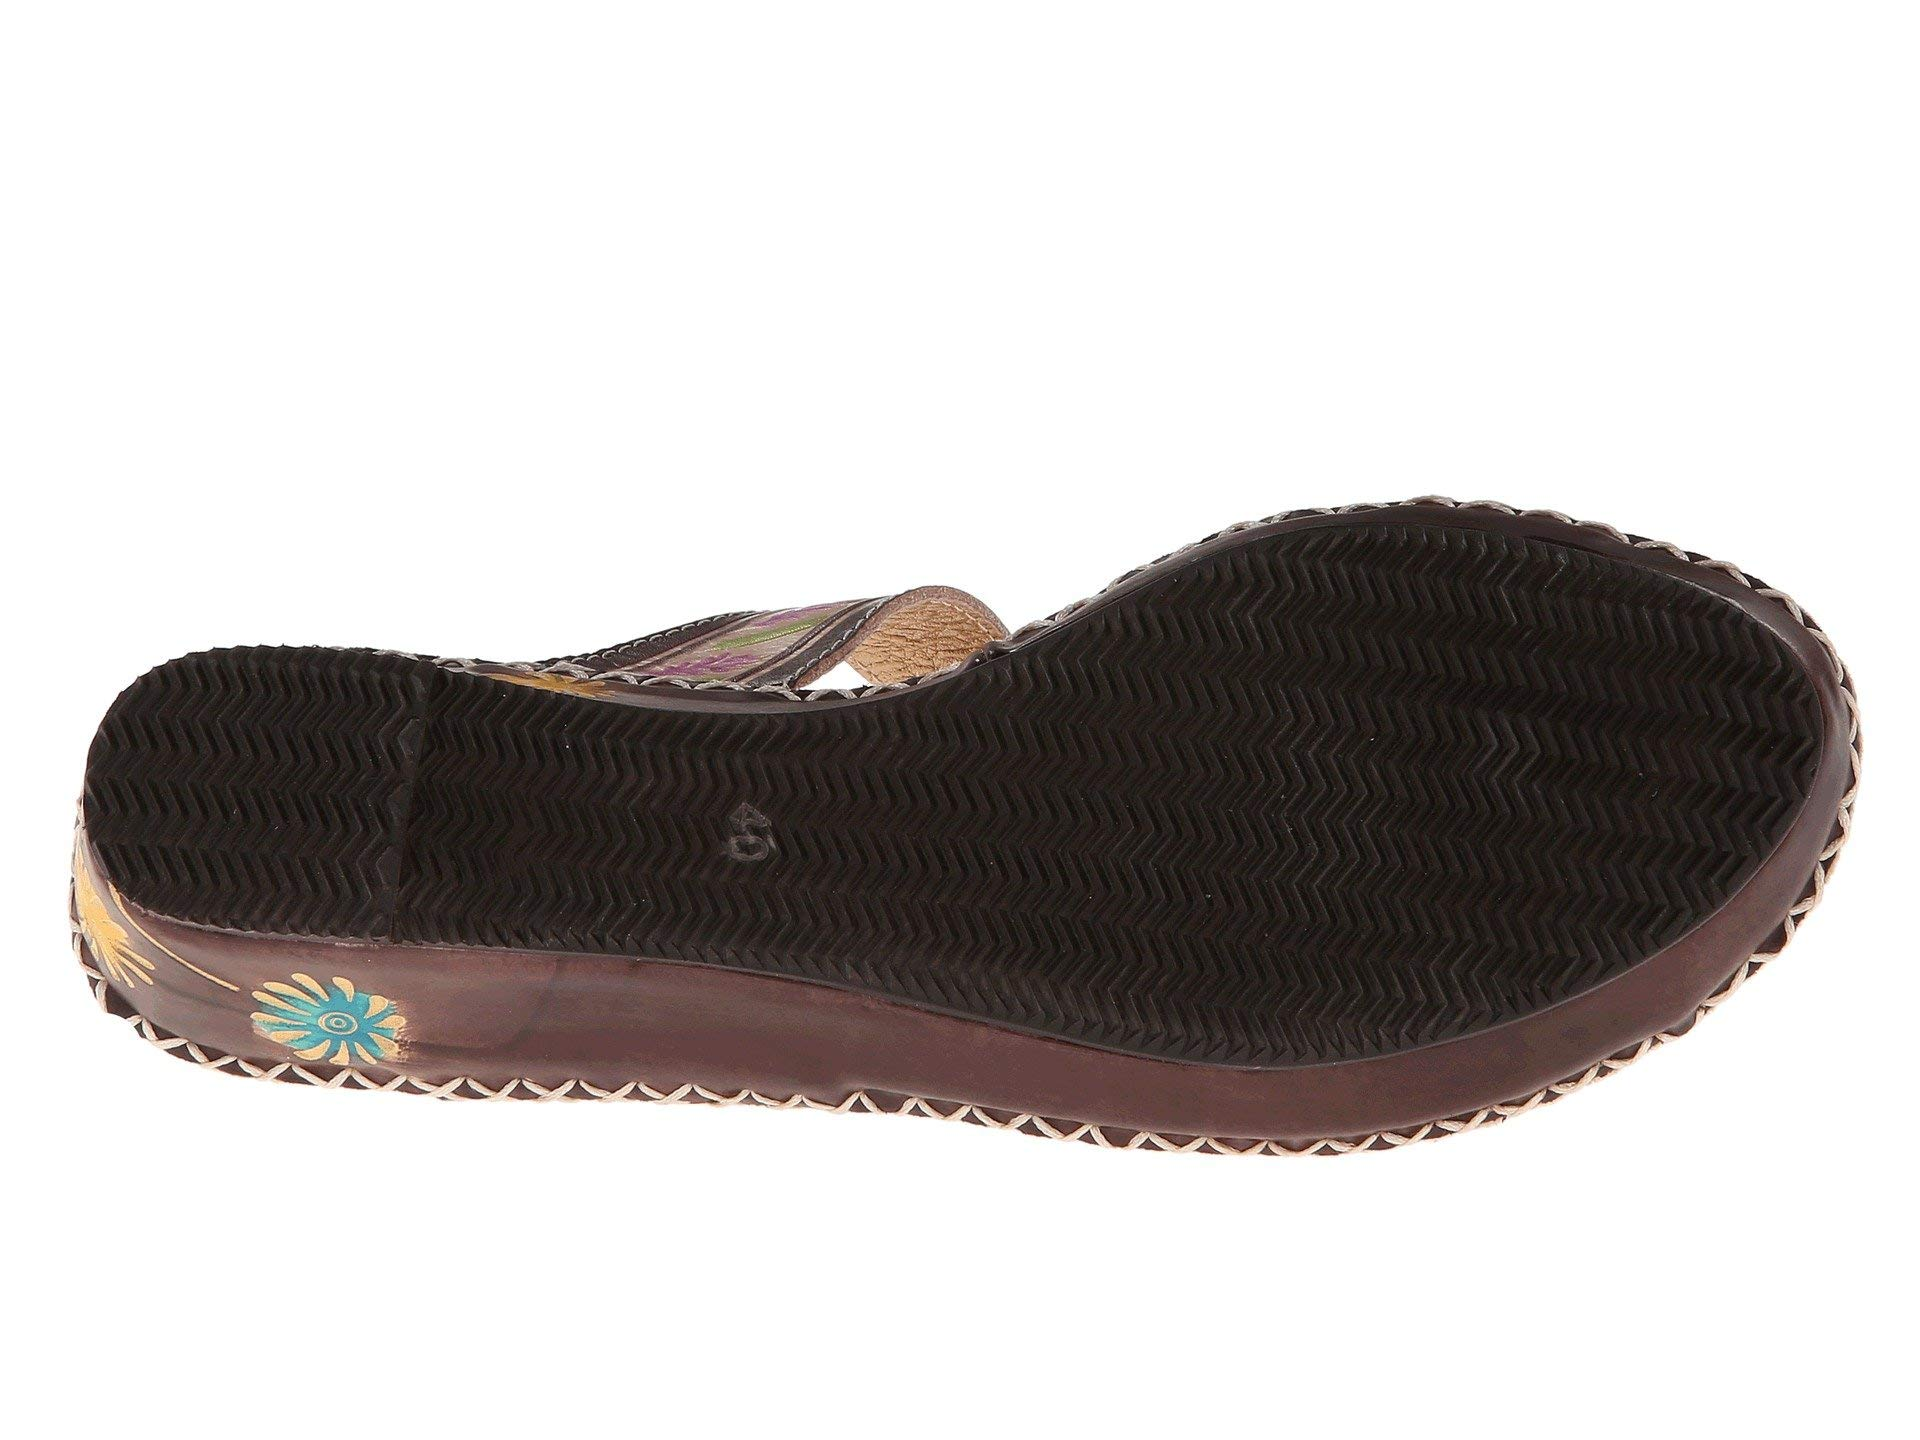chevron: (1110, 611, 1683, 917), (438, 700, 1092, 959), (139, 681, 382, 883)
